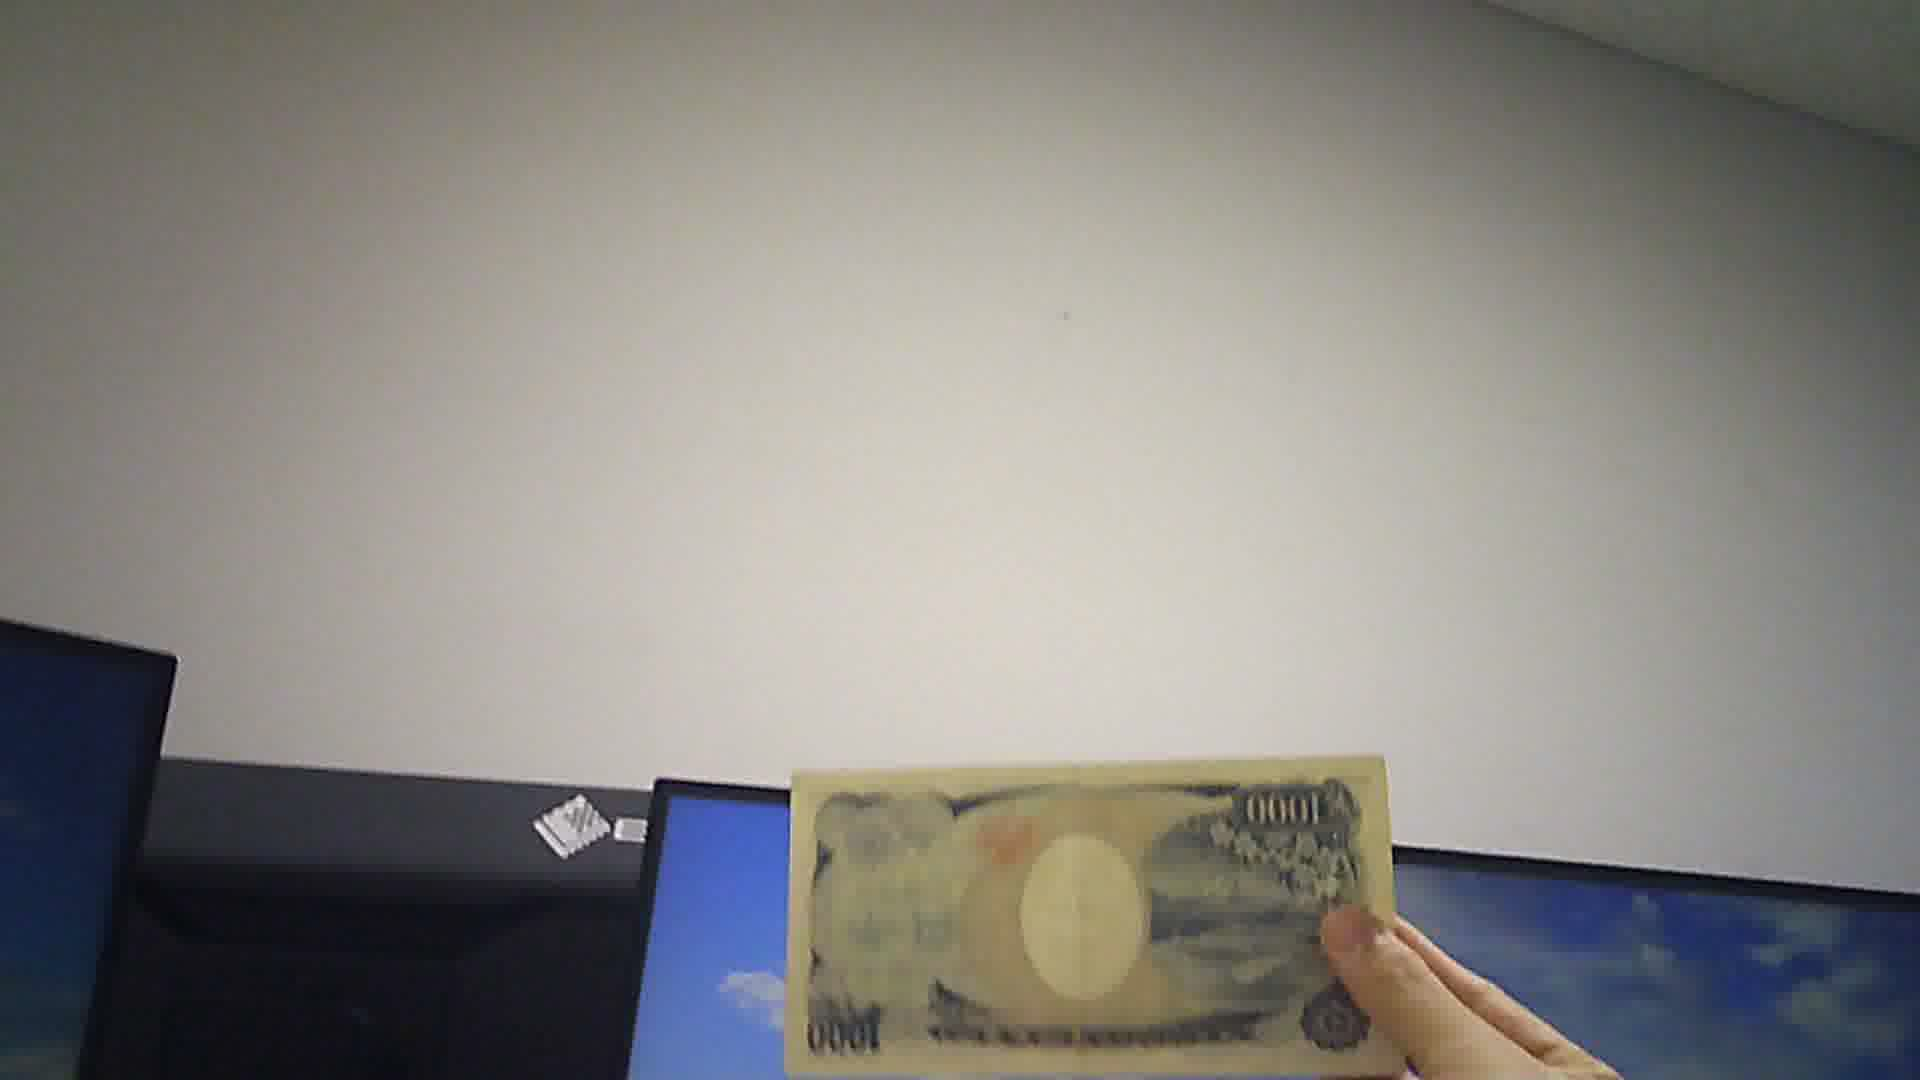1,000 Yen: (789, 750, 1402, 1076)
